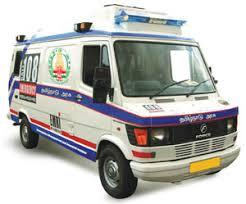ER: (8, 2, 241, 198)
